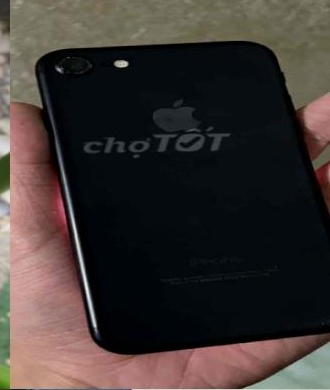scratch: (55, 51, 97, 73), (308, 316, 330, 328), (269, 260, 287, 273)
